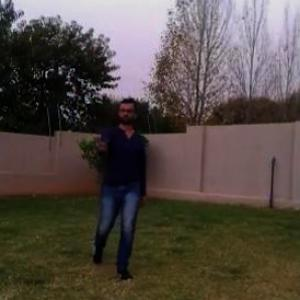takeoff-hand: (86, 130, 107, 159)
